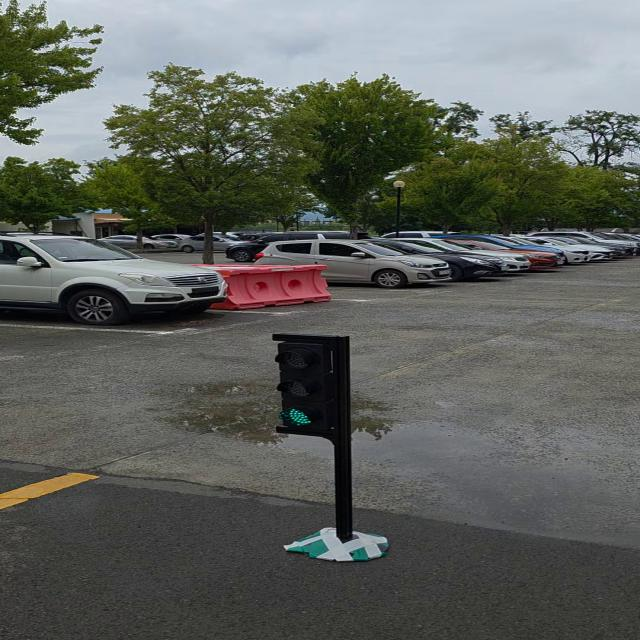green: (276, 333, 350, 439)
